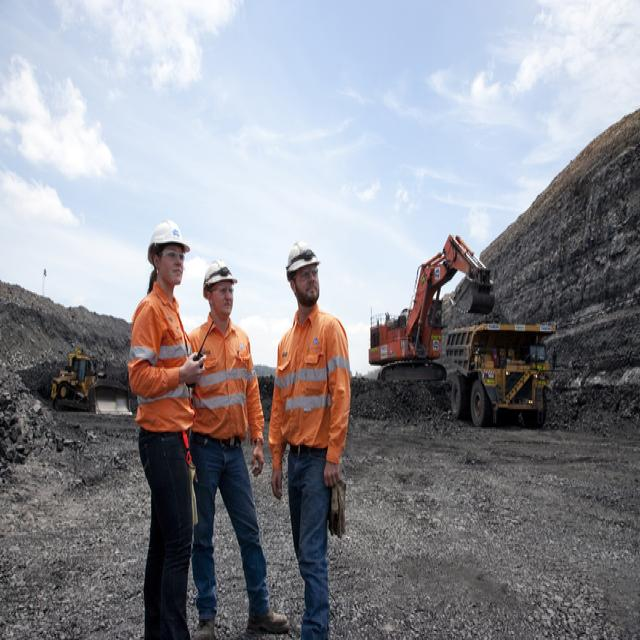buldozerpayloadergrader: (42, 328, 134, 426)
dump_truck: (441, 319, 568, 433)
excavator: (361, 218, 495, 392)
